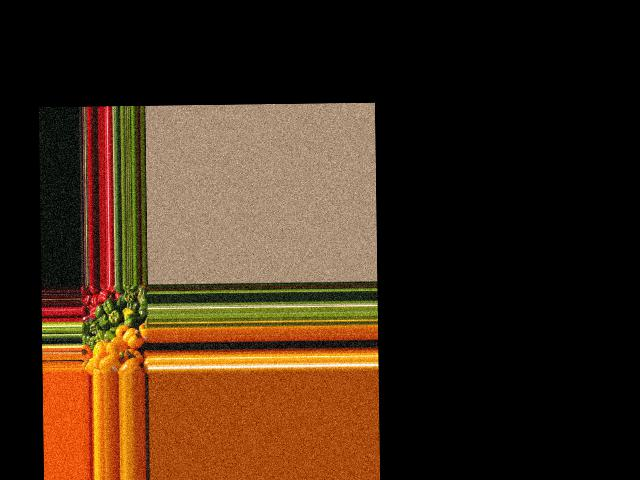bell_pepper: (137, 284, 149, 300)
